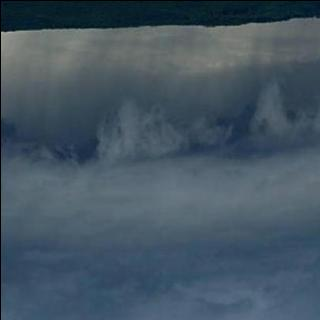Nimbostratus: (0, 29, 320, 320)
